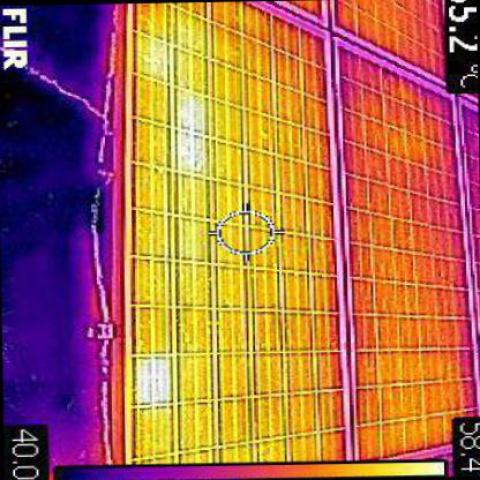fault: (173, 86, 208, 168), (129, 351, 172, 402)
